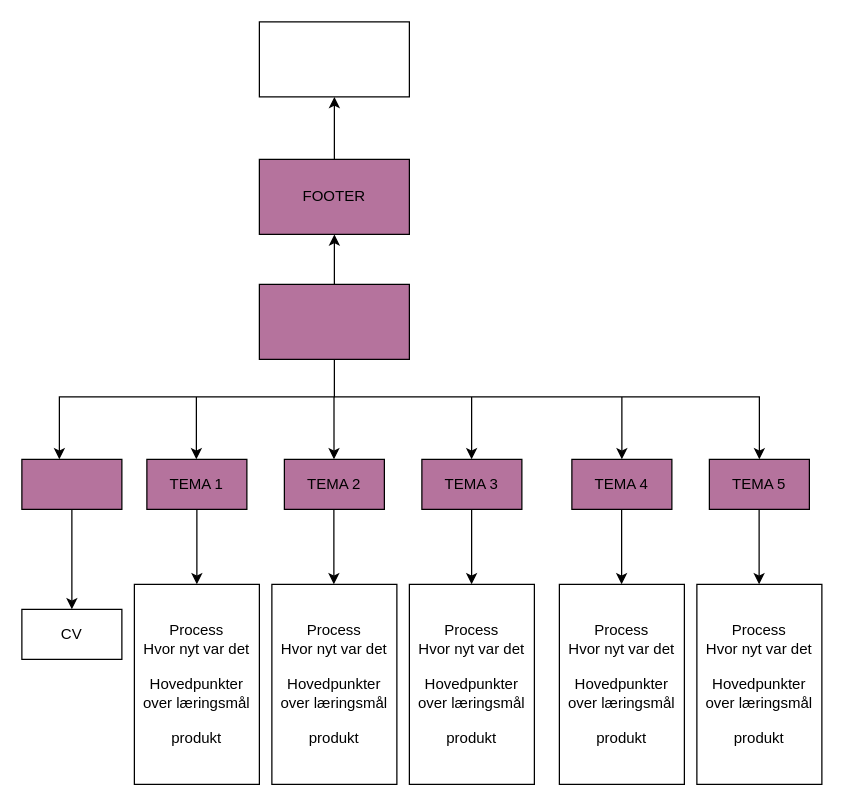
Some shapes in this 844 by 806 pixel diagram are drawn without their labels. Each missing label, with the box of its shape:
FORSIDE: (258, 283, 409, 359)
Navn Dato Sted: (258, 21, 409, 97)
OM MIG: (21, 458, 122, 509)
